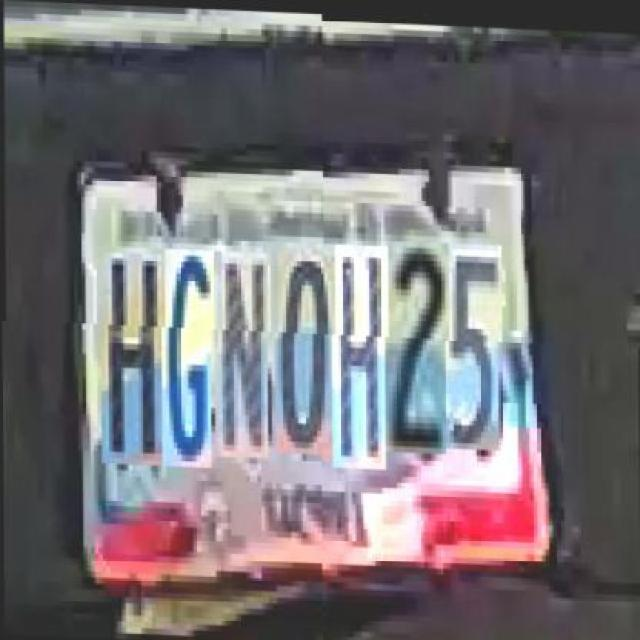2: (388, 237, 449, 451)
5: (448, 239, 502, 446)
g: (163, 253, 214, 472)
h: (103, 257, 166, 471), (336, 242, 390, 466)
n: (220, 255, 272, 462)
o: (278, 251, 336, 458)
